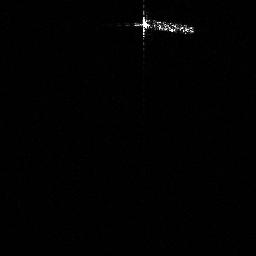ship: (129, 12, 198, 41)
